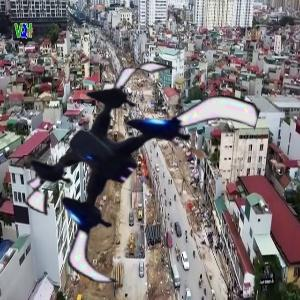drone: (3, 52, 241, 290)
